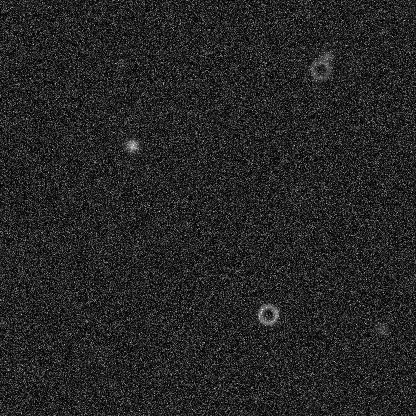Ring: (255, 302, 279, 326), (308, 57, 332, 81)
Spot: (373, 320, 389, 336), (124, 137, 140, 153), (318, 48, 334, 64)
